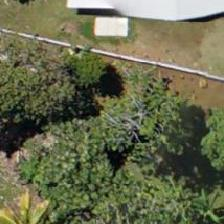coconut_tree: (0, 176, 63, 223)
